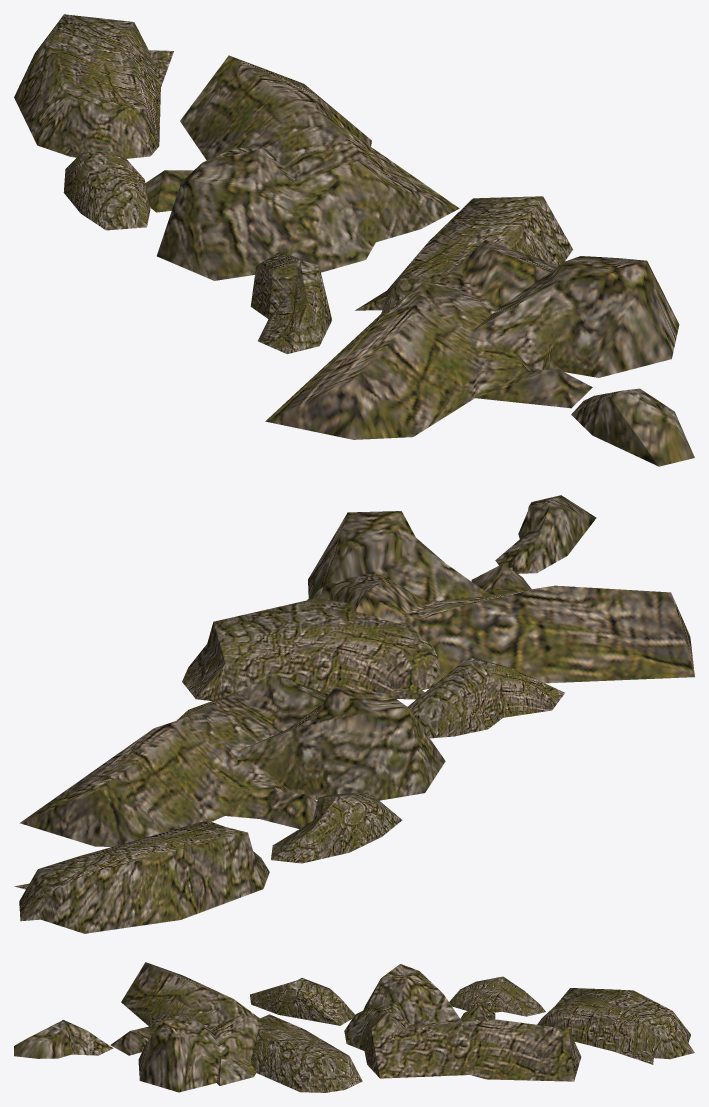
Rendered from SM_Plains_LargeRock_Pile01.FBX.
3 views of the same model, one above another, from view 1: azimuth 30°, elevation 25°; view 2: azimuth 150°, elevation 25°; view 3: azimuth 270°, elevation 25° (orthographic). The views are drawn at different scales.
Parts seen in each view (by area): view 1: SM_Plains_LargeRock_Pile01; view 2: SM_Plains_LargeRock_Pile01; view 3: SM_Plains_LargeRock_Pile01.
Boxes of the visible parts, box(x1,y1,x2,y2) form: SM_Plains_LargeRock_Pile01: box(14, 14, 694, 466); SM_Plains_LargeRock_Pile01: box(14, 495, 694, 933); SM_Plains_LargeRock_Pile01: box(14, 962, 694, 1092).
Bounding box in the file's own units: 97.1 × 19.56 × 239.
